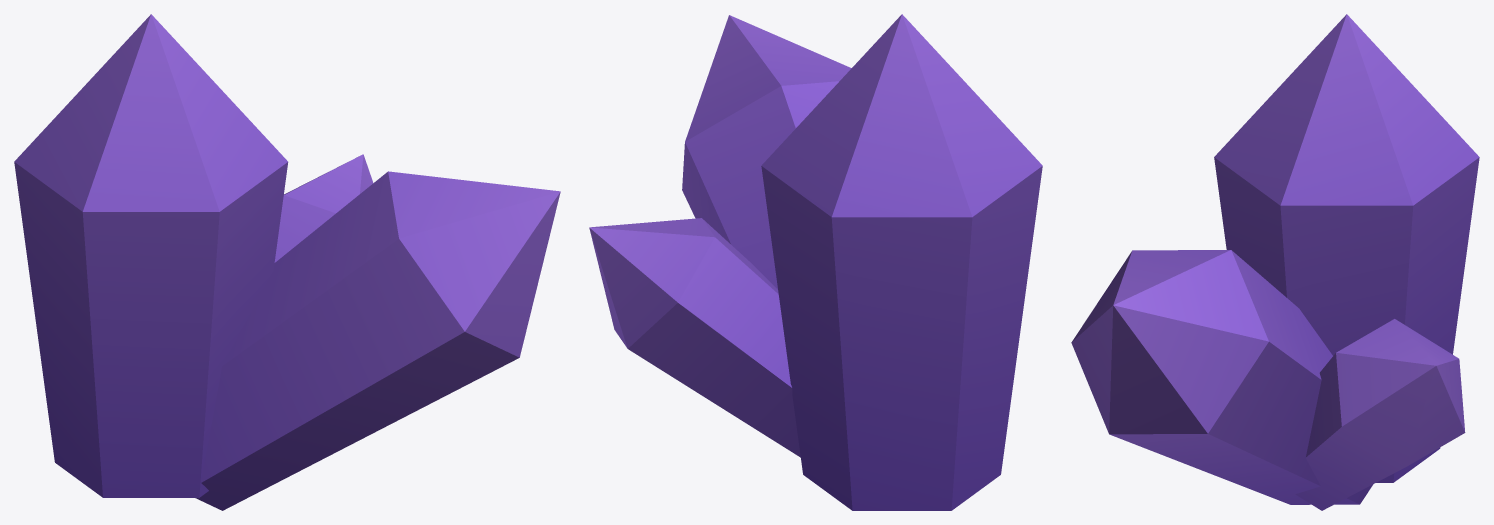
Rendered from Crystal2.fbx.
3 views of the same model, side by side, from view 1: azimuth 30°, elevation 25°; view 2: azimuth 150°, elevation 25°; view 3: azimuth 270°, elevation 25° (orthographic). The views are drawn at different scales.
Visible parts, largest first — view 1: Crystal2; view 2: Crystal2; view 3: Crystal2.
Boxes of the visible parts, x1,y1,x2,y2 form: Crystal2: (14, 14, 560, 510); Crystal2: (589, 14, 1042, 510); Crystal2: (1071, 14, 1479, 510).
Bounding box in the file's own units: 37.78 × 44.79 × 35.2.
